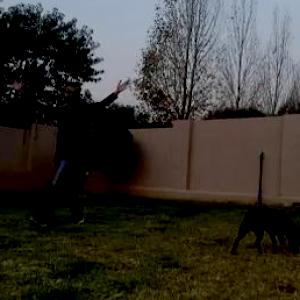takeoff: (4, 72, 137, 226)
